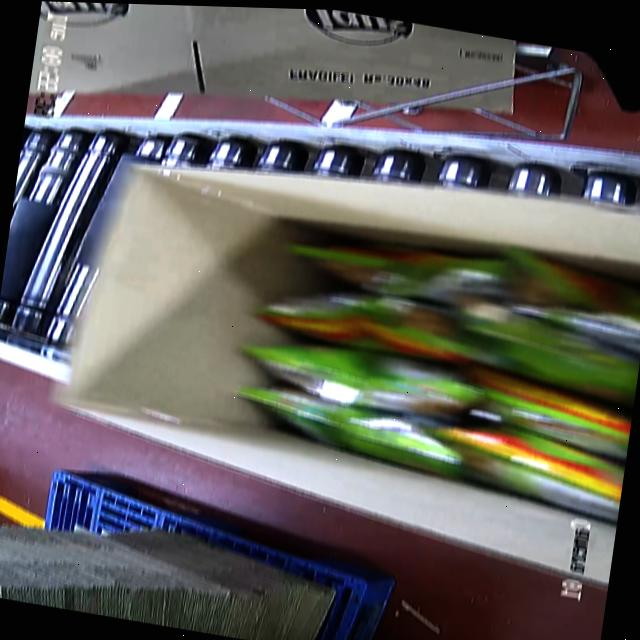YOGURT_HERB: (221, 201, 640, 526)
